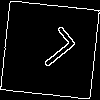L: (25, 25, 78, 76)
